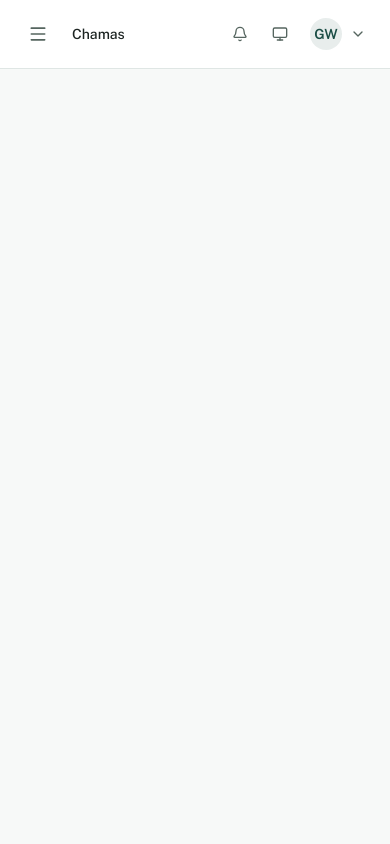
Test: StaffLayout › opens the mobile nav backdrop from the header menu button and closes it from the drawer close button
This screenshot has width=390, height=844.
What coordinates should you click on to do the following:
click the button named "open menu"
I would click on:
 (38, 34)
Its box is [16,12,60,56].
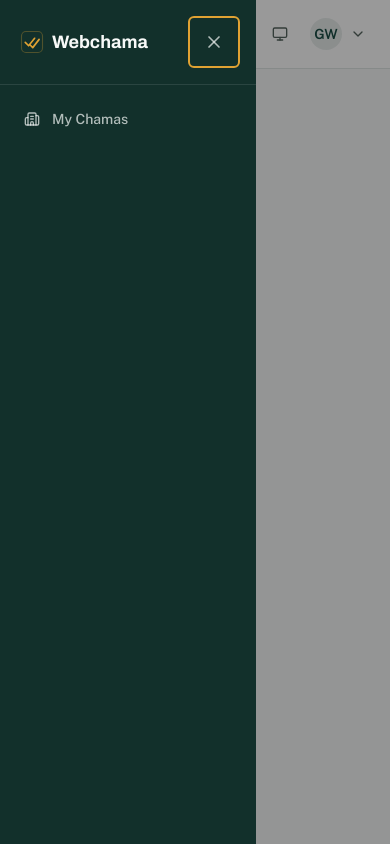
Expected: the element with test id "nav-backdrop" is shown
What coordinates should you click on to do the following:
click the button named "close menu"
I would click on:
 (214, 42)
Its box is [192,20,236,64].
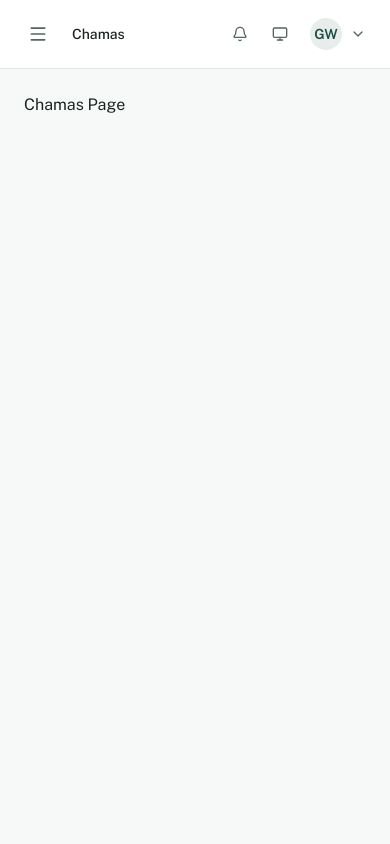
Expected: the element with test id "nav-backdrop" is gone
